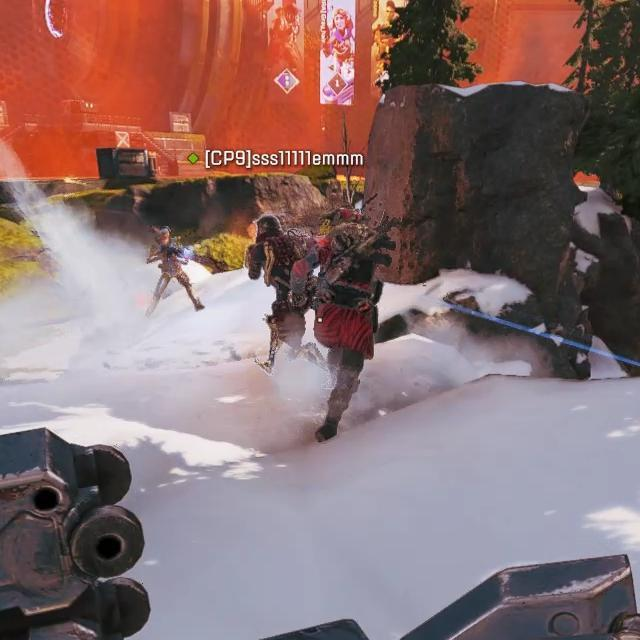avatar: (289, 204, 398, 444), (243, 212, 314, 373), (145, 223, 205, 319)
